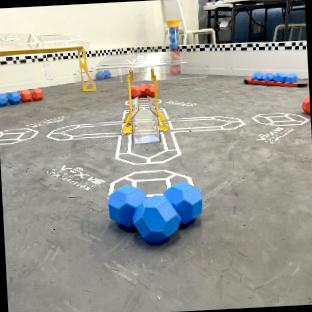Goal: (0, 32, 94, 89)
Med_goal: (95, 49, 184, 144)
Parking-R: (244, 76, 308, 86)
V5_BLUE: (108, 181, 201, 242), (251, 73, 296, 83), (95, 69, 110, 79)
V5_RED: (20, 88, 43, 102), (131, 83, 155, 96), (301, 95, 309, 113)
